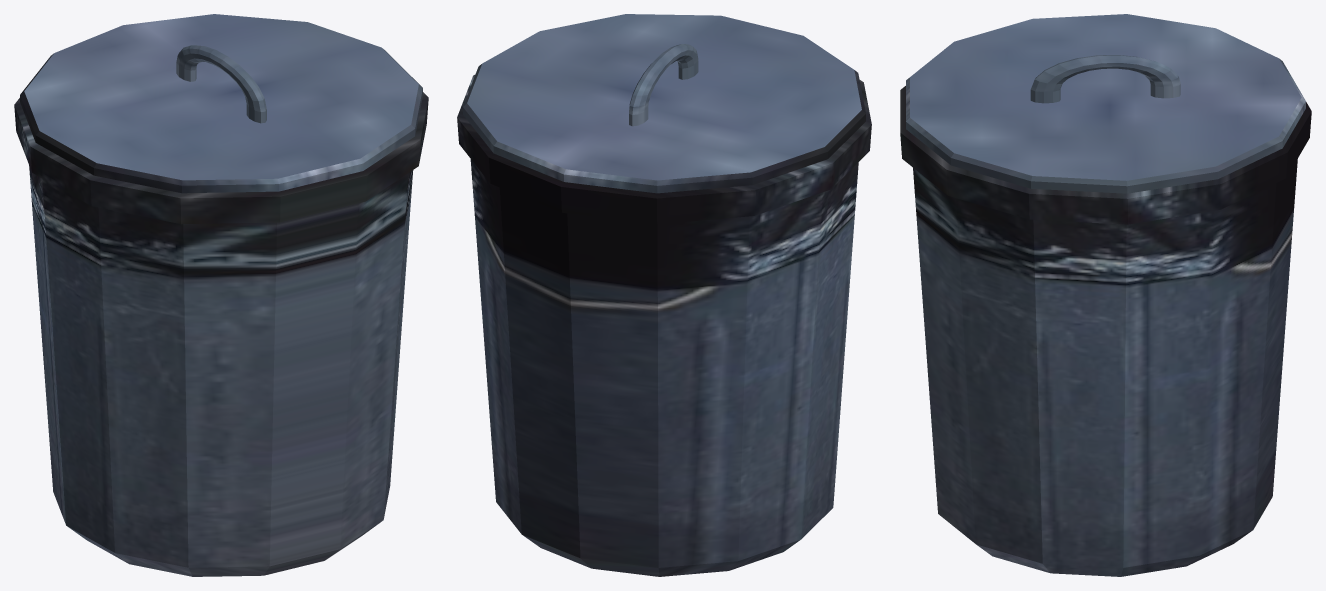
The model's file is TrashCan.fbx.
3 views of the same model, side by side, from view 1: azimuth 30°, elevation 25°; view 2: azimuth 150°, elevation 25°; view 3: azimuth 270°, elevation 25° (orthographic).
Parts seen in each view (by area): view 1: TrashCan; view 2: TrashCan; view 3: TrashCan.
Part boxes in pixels (x1=…): TrashCan: x1=14, y1=14, x2=428, y2=576; TrashCan: x1=457, y1=14, x2=871, y2=576; TrashCan: x1=900, y1=14, x2=1311, y2=576.
Bounding box in the file's own units: 2.46 × 3.01 × 2.44.
Materials: 1 (1 with a texture image).
